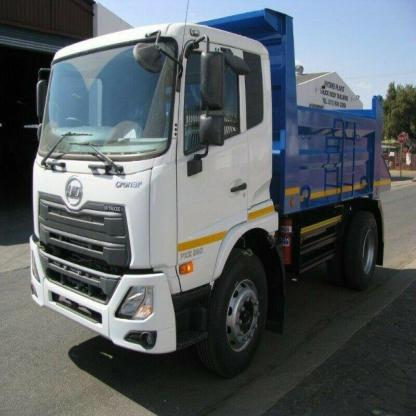dump_truck: (31, 5, 391, 378)
